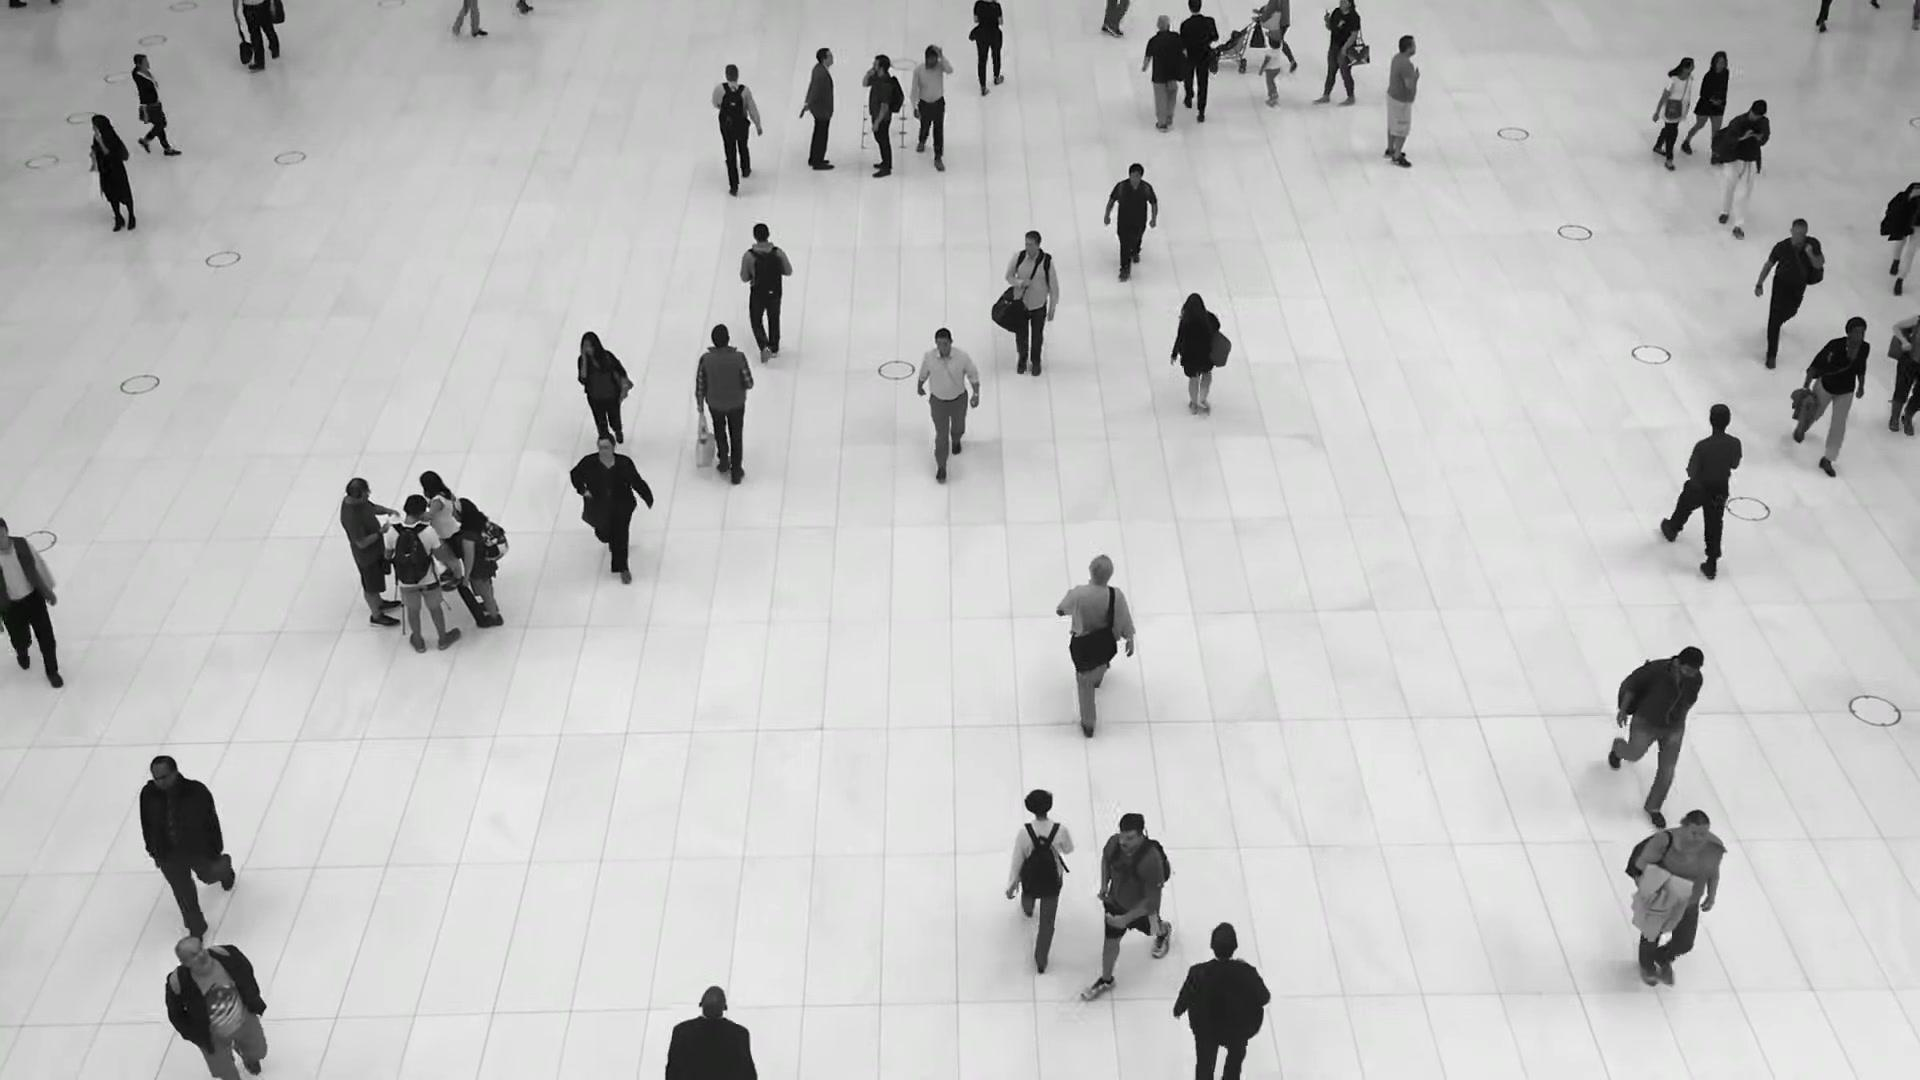person: (140, 757, 237, 948), (1080, 812, 1170, 1001), (1609, 646, 1704, 821), (1633, 811, 1722, 990), (1172, 920, 1270, 1078), (164, 935, 268, 1079), (1660, 402, 1744, 579), (1055, 552, 1136, 733), (569, 433, 652, 587), (1794, 315, 1870, 480), (384, 494, 461, 652), (1008, 787, 1075, 968), (1754, 219, 1825, 371), (339, 477, 402, 629), (694, 323, 753, 483), (918, 328, 980, 480), (1711, 99, 1770, 238), (1004, 231, 1058, 379), (740, 223, 792, 367), (704, 64, 756, 195), (1103, 162, 1158, 281), (452, 497, 503, 627), (1170, 293, 1221, 415), (576, 332, 633, 439), (909, 45, 953, 173), (89, 114, 136, 233), (132, 53, 186, 156), (1311, 0, 1361, 108), (1141, 14, 1187, 131), (1682, 51, 1729, 165), (418, 470, 460, 592), (1652, 56, 1697, 170), (861, 56, 902, 180), (1383, 34, 1420, 168), (1179, 0, 1219, 123), (799, 48, 835, 172), (1252, 0, 1298, 74), (971, 0, 1004, 100), (1257, 38, 1282, 106)
